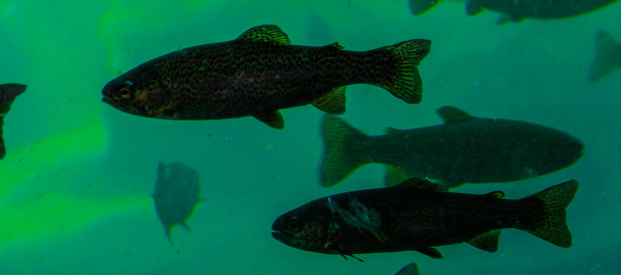fishLarge: (100, 24, 432, 129), (270, 176, 579, 263), (316, 105, 587, 190)
